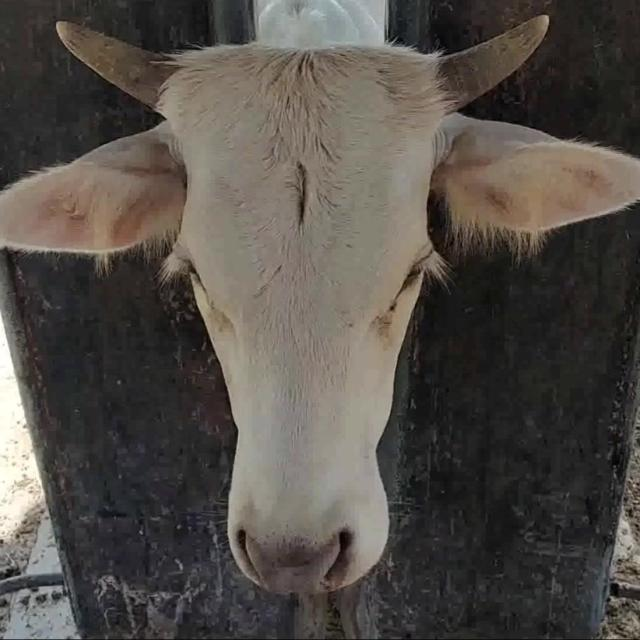cowFace: (164, 39, 432, 590)
